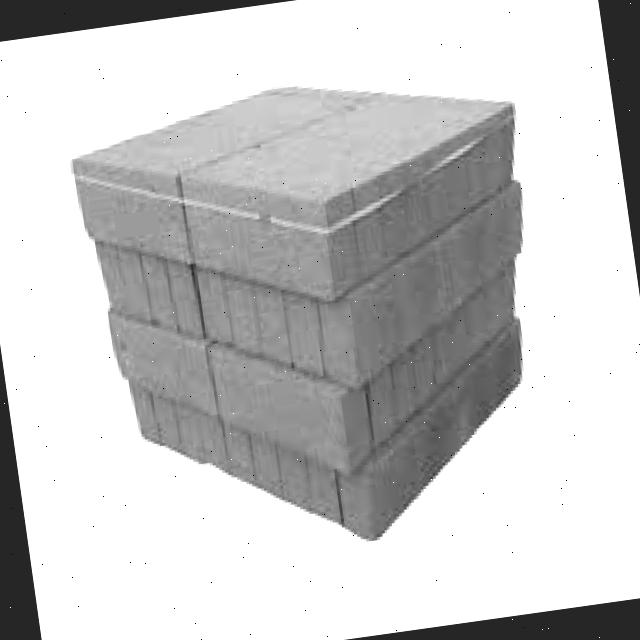bricks: (78, 86, 522, 536)
